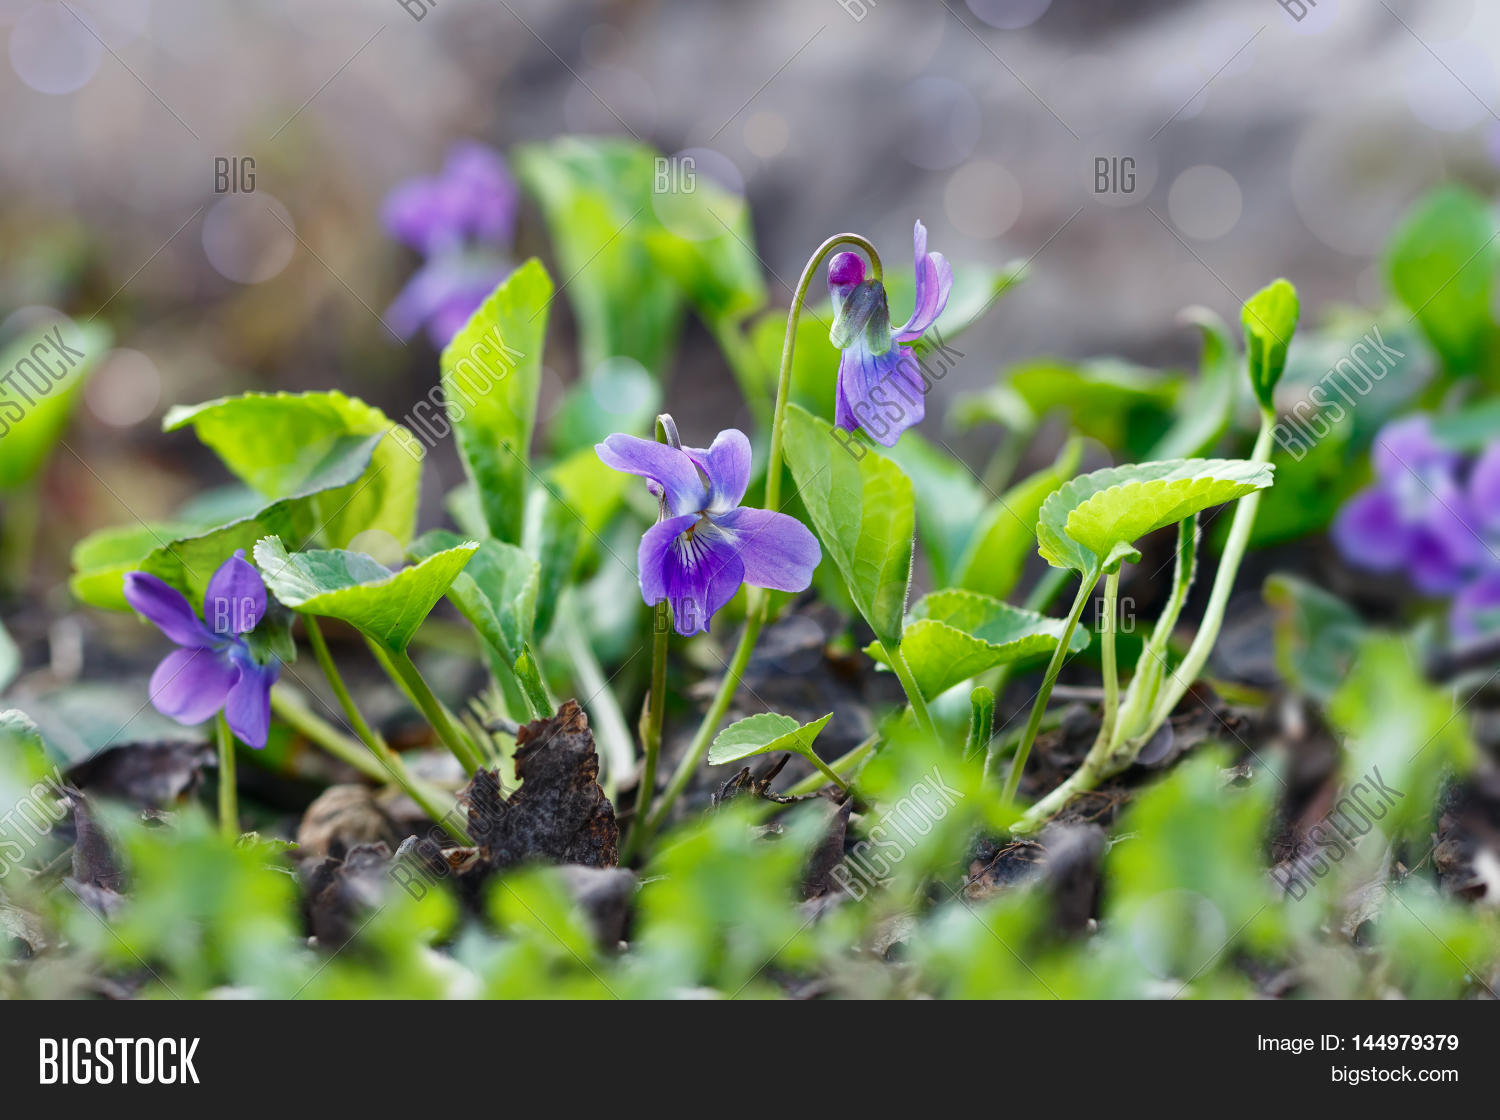violet: (584, 398, 856, 639), (99, 551, 305, 740), (782, 224, 955, 436)
